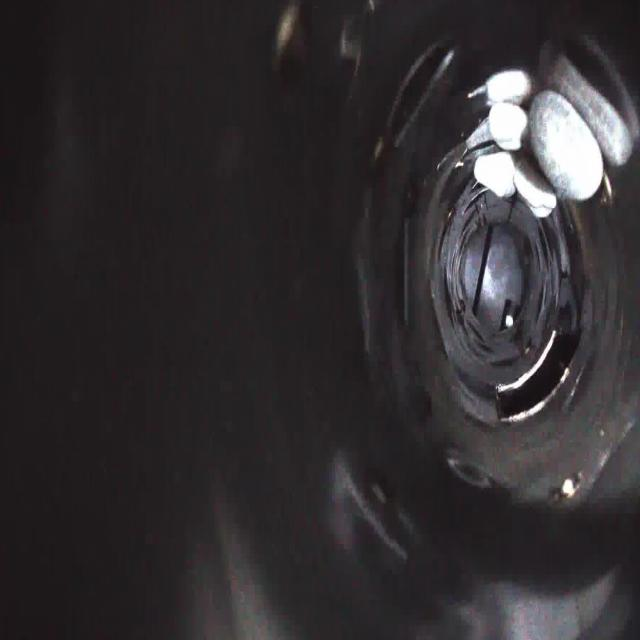crack: (533, 209, 561, 275), (533, 279, 575, 323), (458, 177, 497, 224), (428, 208, 454, 266), (466, 318, 498, 364), (441, 259, 461, 329), (488, 347, 523, 380), (499, 166, 519, 206)
hole: (497, 322, 585, 430)
